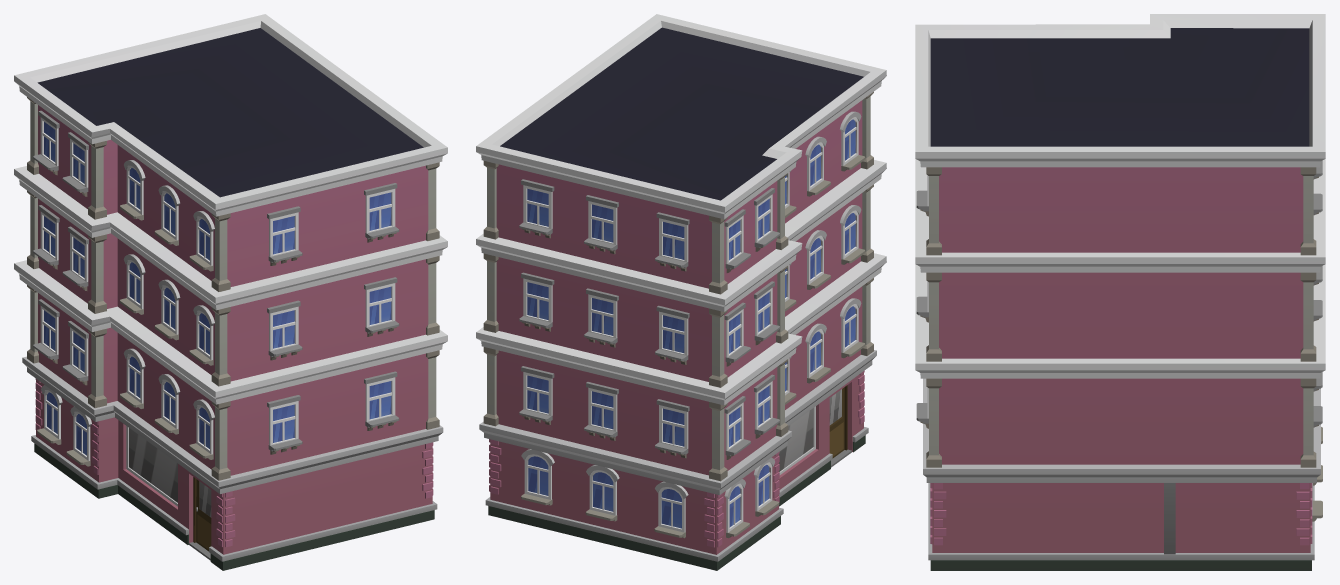
The model's file is Building_1_4_N.fbx.
3 renders of one model, left to right at view 1: azimuth 30°, elevation 25°; view 2: azimuth 150°, elevation 25°; view 3: azimuth 270°, elevation 25°, orthographic. The views are drawn at different scales.
Visible parts, largest first — view 1: Building_1_4_N; view 2: Building_1_4_N; view 3: Building_1_4_N.
Boxes of the visible parts, box(x1,y1,x2,y2) form: Building_1_4_N: box(14, 14, 447, 570); Building_1_4_N: box(476, 14, 886, 570); Building_1_4_N: box(915, 14, 1325, 570).
Size of the model in its own units: 841 by 1201 by 1057.
